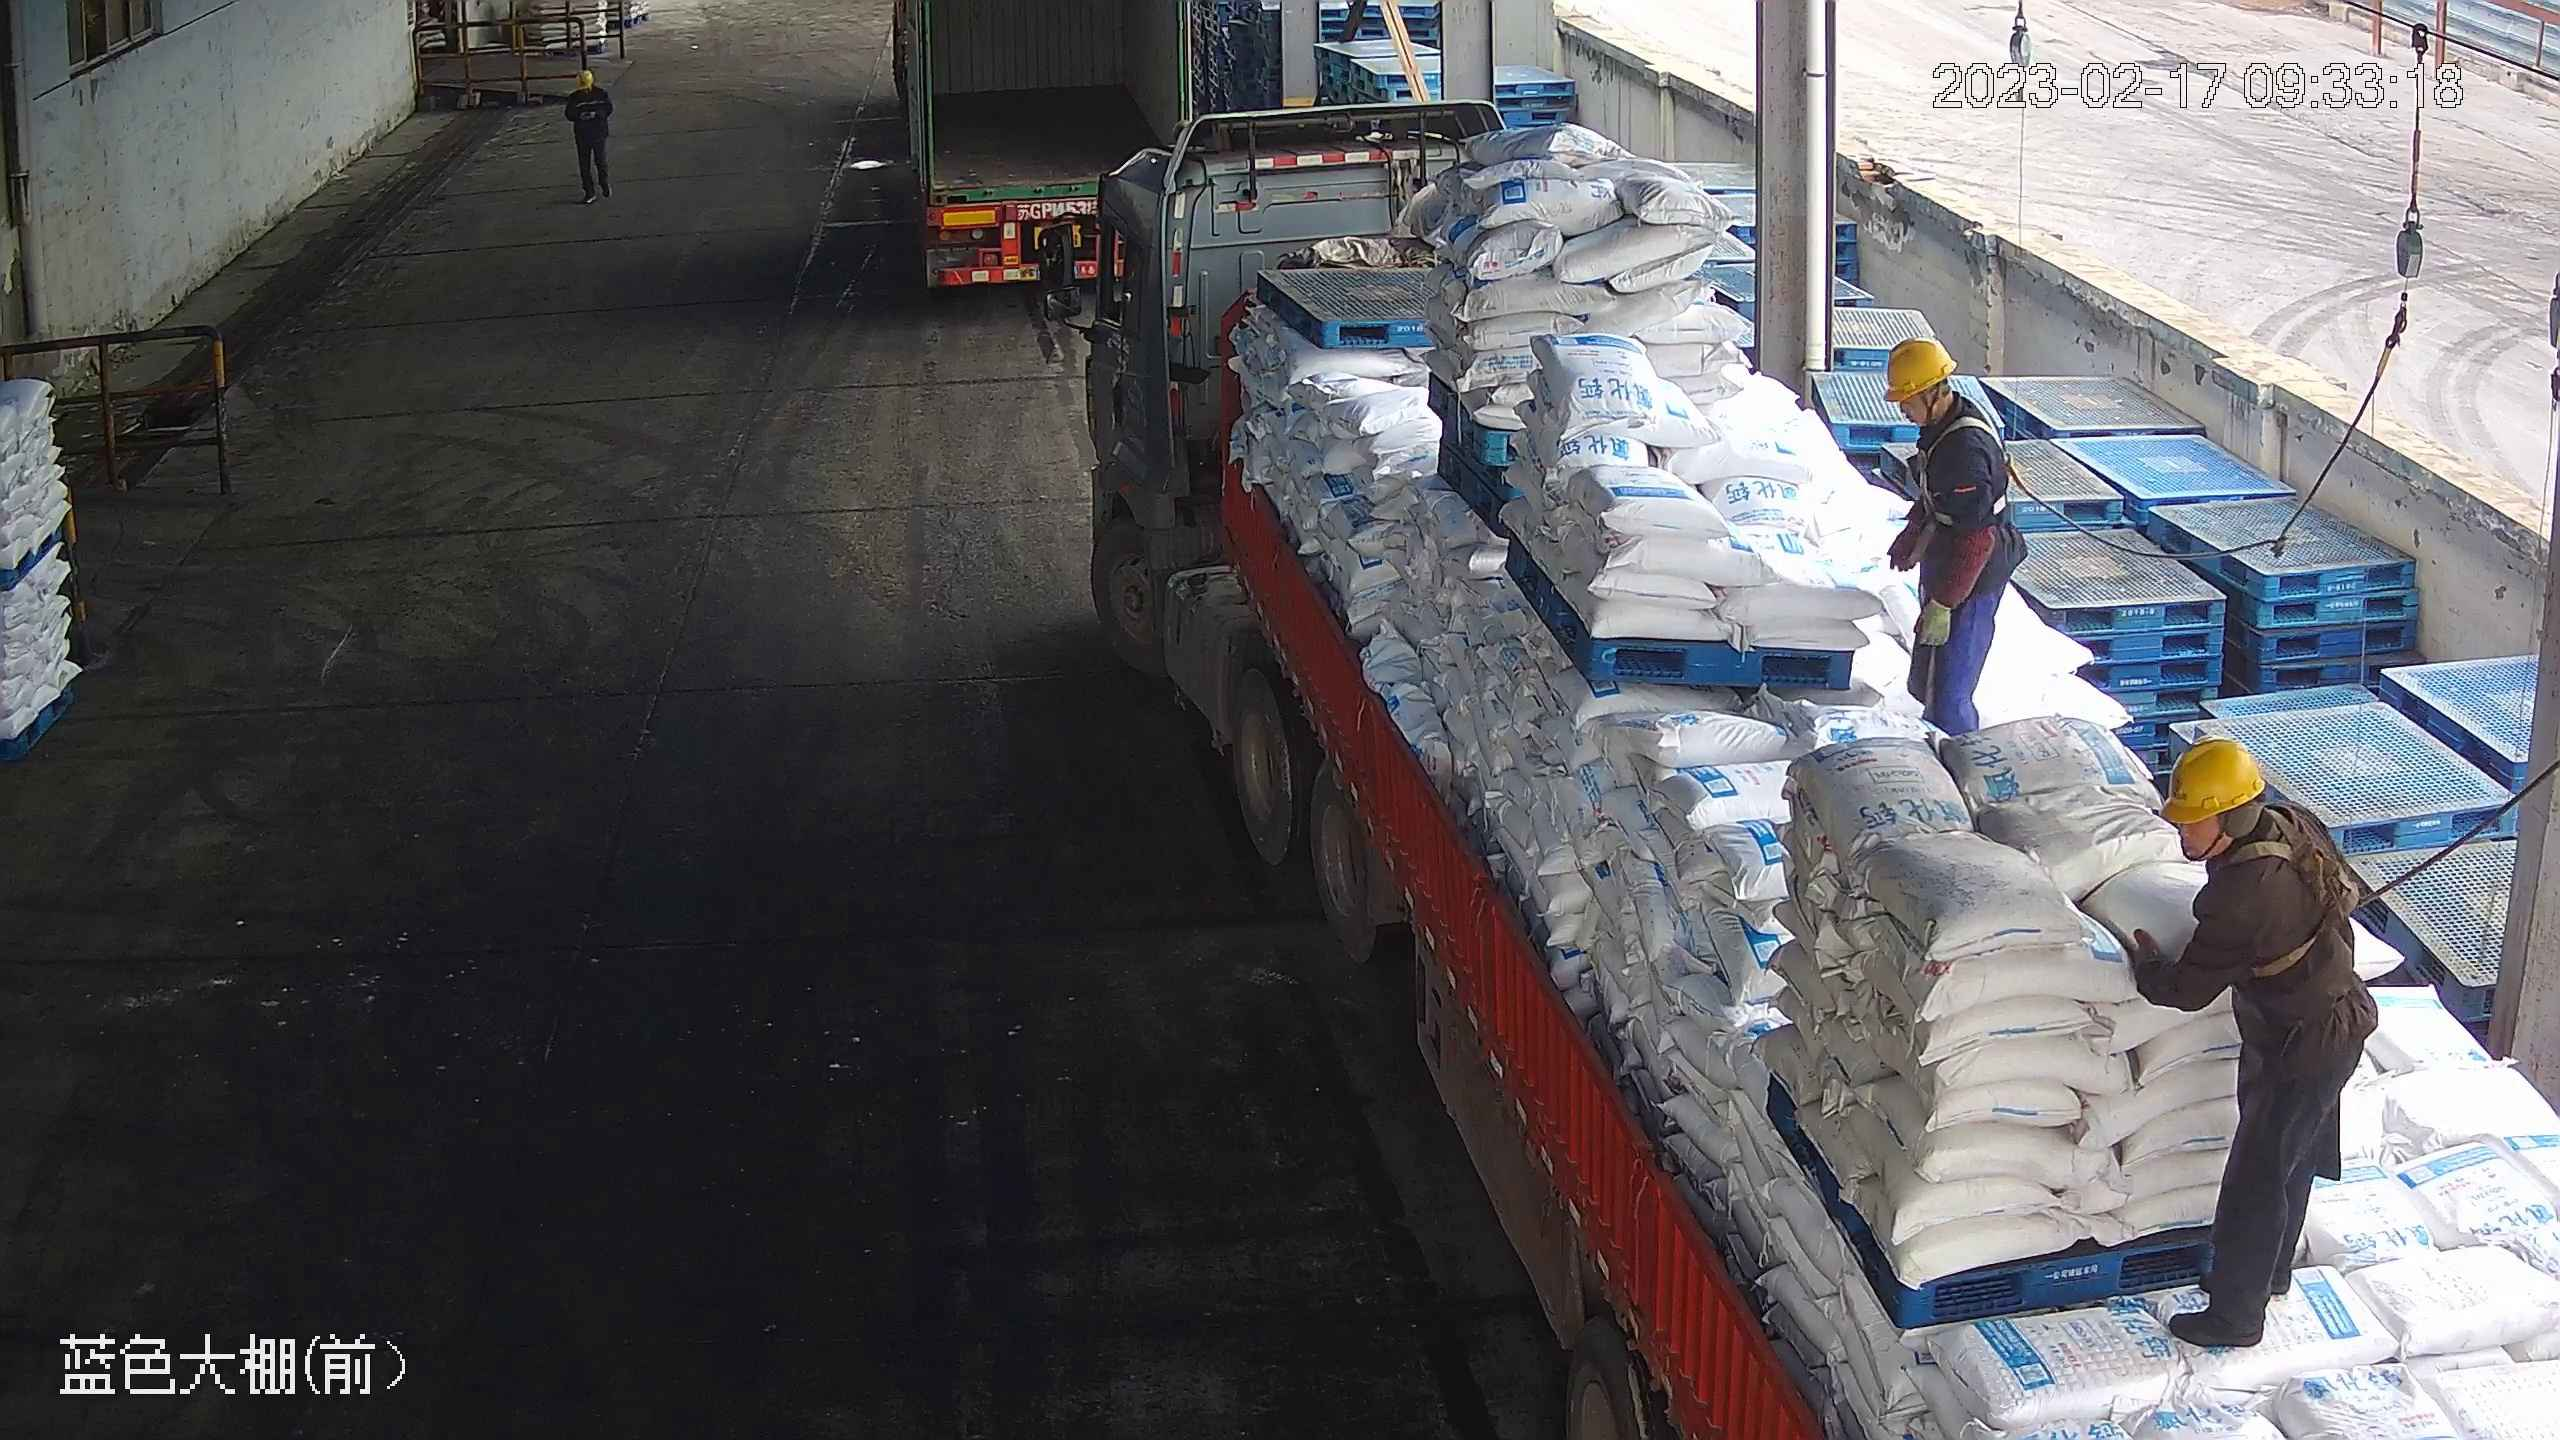belt: (2225, 807, 2368, 978), (1918, 403, 2020, 521)
head: (2155, 733, 2334, 908), (1881, 336, 2006, 472), (564, 67, 610, 110)
helmet: (2154, 732, 2268, 823), (1881, 336, 1957, 398), (574, 68, 598, 87)
people: (2115, 731, 2379, 1355), (1877, 336, 2026, 756), (563, 67, 613, 203)
truck: (1036, 95, 2553, 1439), (890, 1, 1202, 295)
